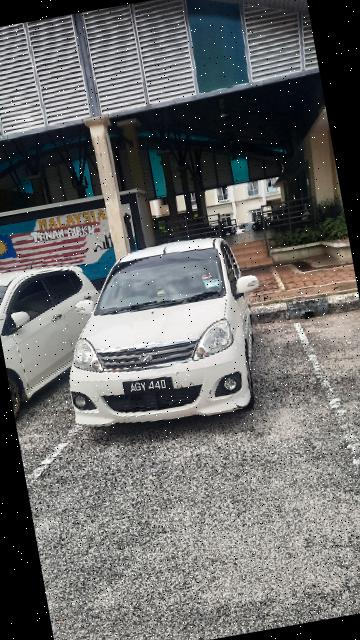License_Plate: (121, 373, 177, 403)
car: (47, 229, 284, 448)
